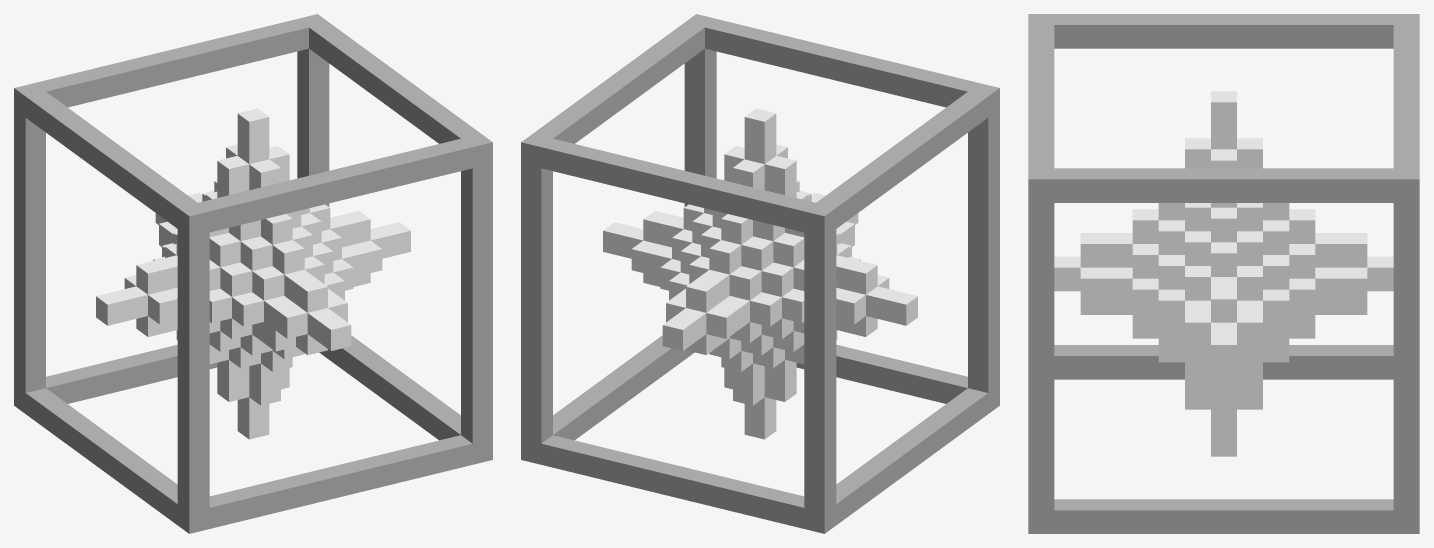
The model's file is core.obj.
The picture shows the model from 3 angles, left to right: view 1: azimuth 30°, elevation 25°; view 2: azimuth 150°, elevation 25°; view 3: azimuth 270°, elevation 25°; orthographic projection. The views are drawn at different scales.
Size of the model in its own units: 1.5 by 1.5 by 1.5.
Materials: 1 (1 with a texture image).
